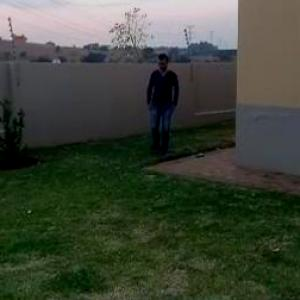follow: (145, 51, 181, 156)
